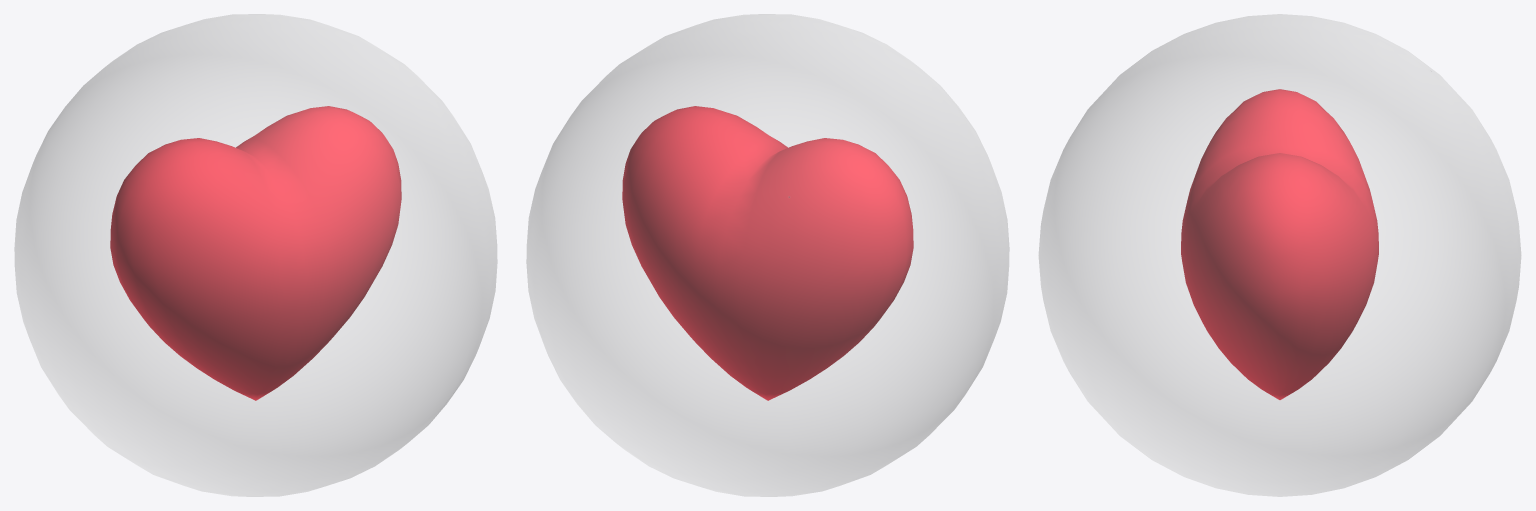
File: heart.glb
3 views of the same model, side by side, from view 1: azimuth 30°, elevation 25°; view 2: azimuth 150°, elevation 25°; view 3: azimuth 270°, elevation 25° (orthographic).
Visible parts, largest first — view 1: Marble, Heart; view 2: Marble, Heart; view 3: Marble, Heart.
Part boxes in pixels (x1=…): Marble: x1=14, y1=14, x2=497, y2=496; Heart: x1=110, y1=106, x2=401, y2=400; Marble: x1=526, y1=14, x2=1009, y2=496; Heart: x1=622, y1=106, x2=913, y2=400; Marble: x1=1038, y1=14, x2=1521, y2=496; Heart: x1=1181, y1=89, x2=1378, y2=399.
Bounding box in the file's own units: 200 × 200 × 200.
Materials: 2 (2 with a texture image).
